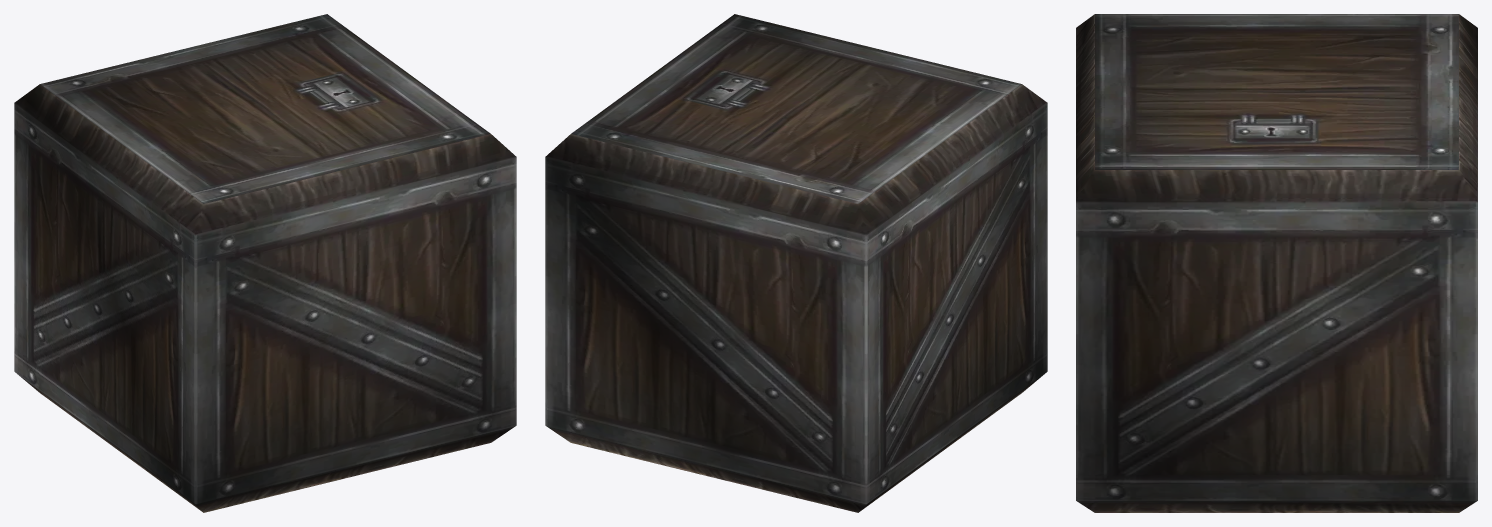
The picture shows the model from 3 angles, left to right: view 1: azimuth 30°, elevation 25°; view 2: azimuth 150°, elevation 25°; view 3: azimuth 270°, elevation 25°; orthographic projection. The views are drawn at different scales.
Bounding box in the file's own units: 0.896 × 0.8233 × 0.874.
Materials: 1 (1 with a texture image).
